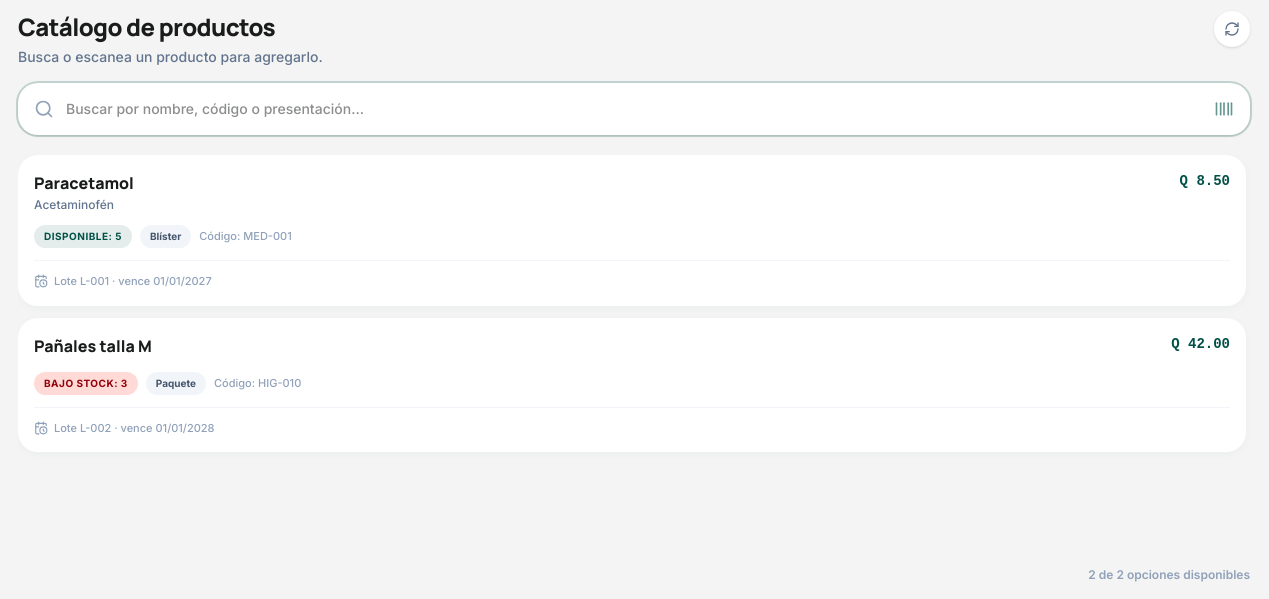
Test: CatalogoProductosPOS › filtra el catálogo mientras el usuario escribe
This screenshot has width=1269, height=599.
Type "pañales" into the search field named "Buscar productos".
click(634, 109); type("pañales")  # box [18,83,1250,135]
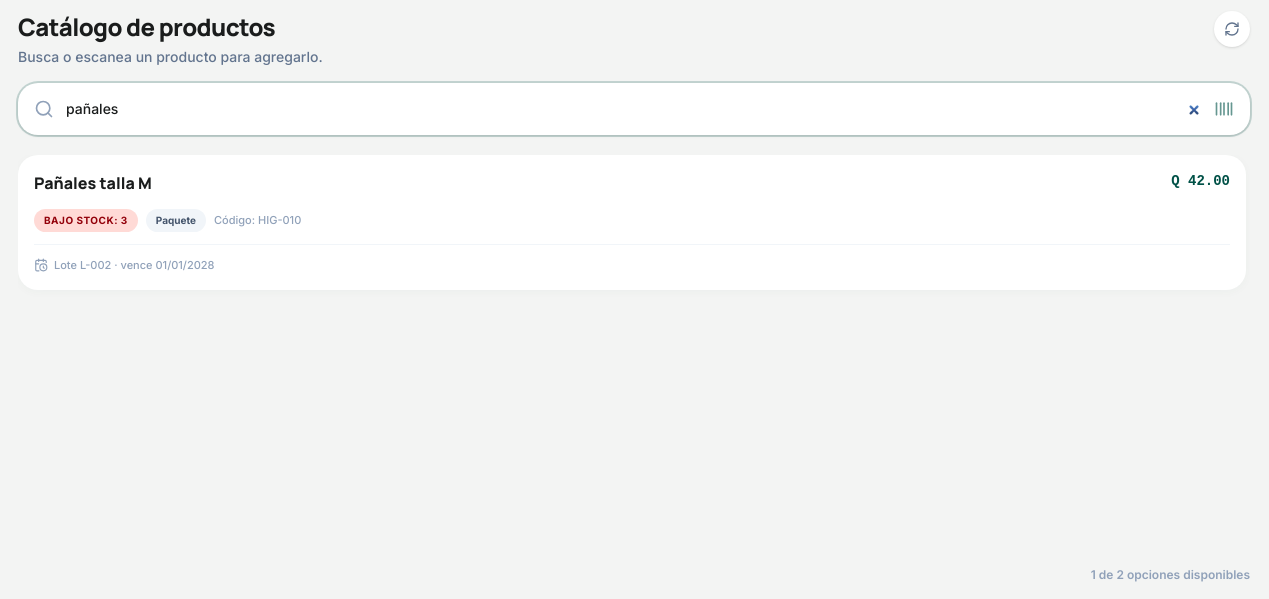
expect the text "Pañales talla M" is shown: met, box [34,171,152,195]
expect the button "Paracetamol" is gone: met
